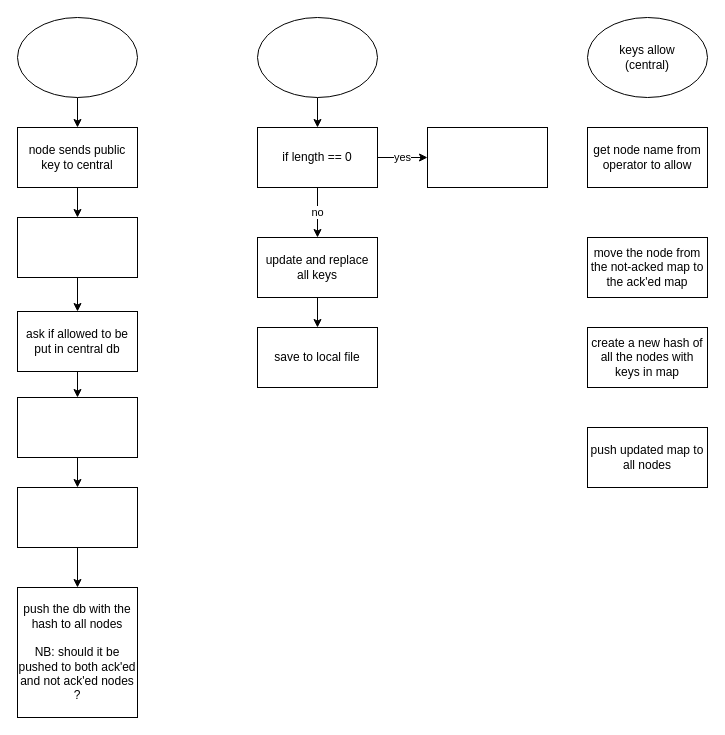
Image size: 725x735. Some labels were removed from this diagram. Each missing label, with the centre of its shape:
"create hash of all keys in db" goes at point 77,517.
"delete all keys" goes at point 487,157.
"keys update receive (node)" goes at point 317,57.
"new key detected in hello message" goes at point 77,57.
"operator allows the key onto central db" goes at point 77,427.
"store key in not-acked db on central" goes at point 77,247.
